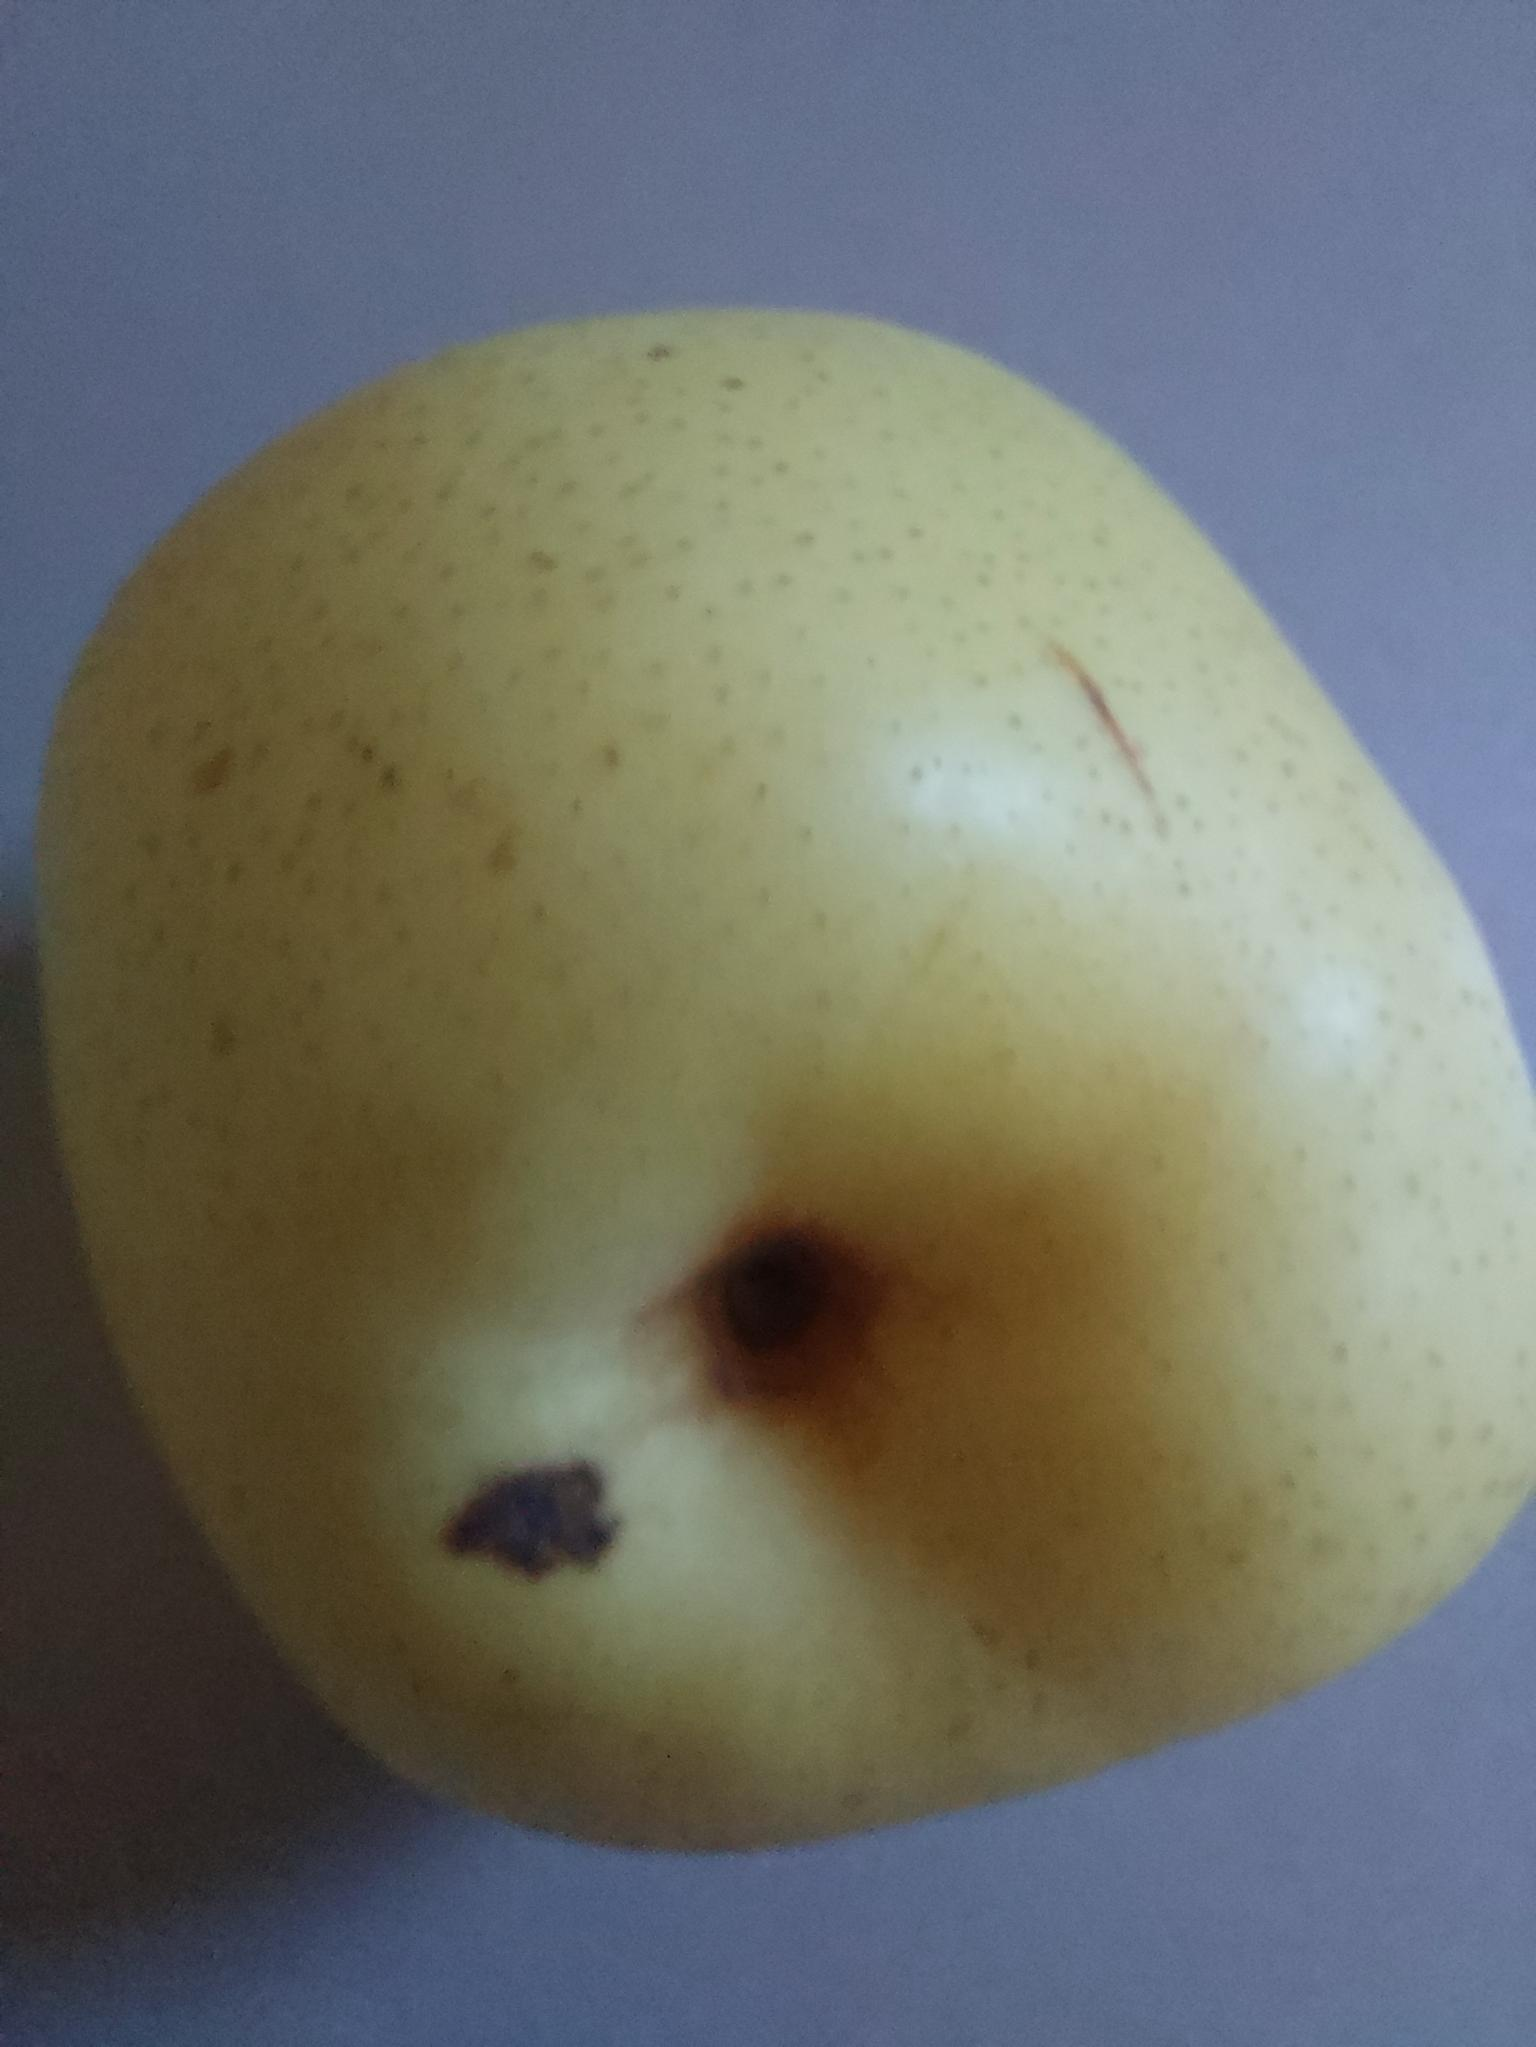Good Pear: (19, 282, 1536, 1900)
